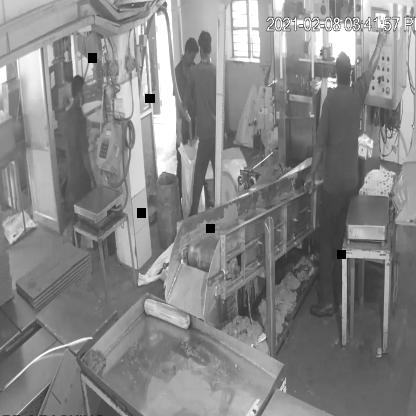no_glove: (304, 130, 334, 198), (364, 29, 392, 76), (76, 144, 102, 186)
